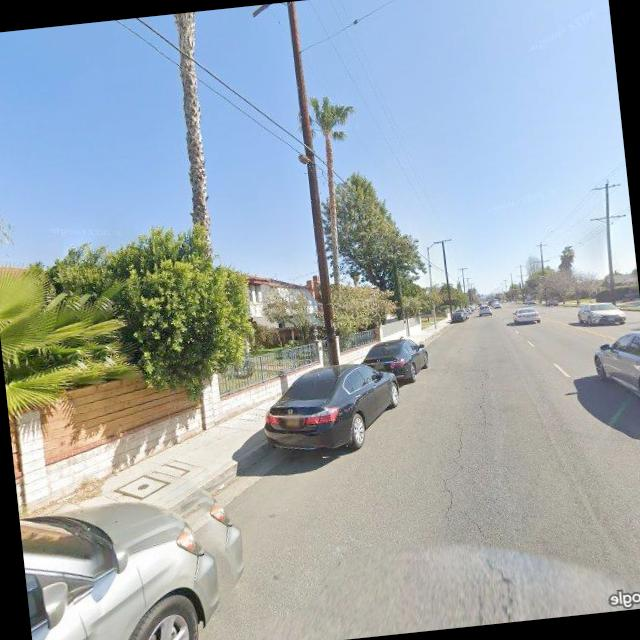pothole: (436, 366, 520, 626)
